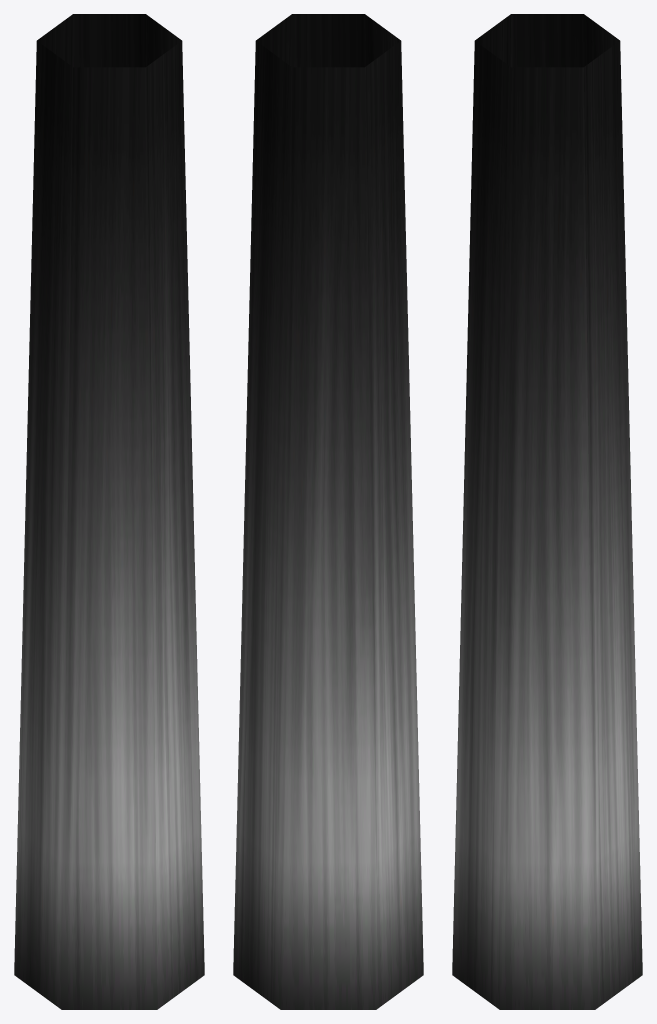
Rendered from QuestLightInner.fbx.
3 renders of one model, left to right at view 1: azimuth 30°, elevation 25°; view 2: azimuth 150°, elevation 25°; view 3: azimuth 270°, elevation 25°, orthographic.
Visible parts, largest first — view 1: QuestLightInner; view 2: QuestLightInner; view 3: QuestLightInner.
Part boxes in pixels (left/top/right/bottom): QuestLightInner: left=14, top=14, right=204, bottom=1009; QuestLightInner: left=233, top=14, right=423, bottom=1009; QuestLightInner: left=452, top=14, right=642, bottom=1009.
Bounding box in the file's own units: 2.09 × 13.05 × 2.41.
